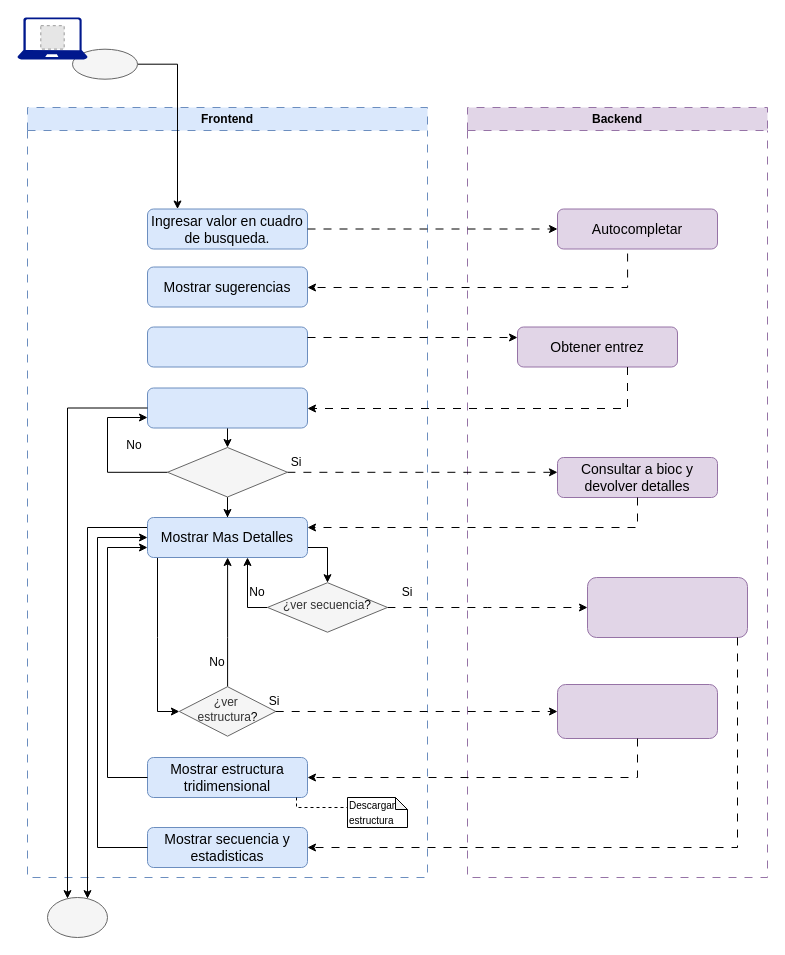
Image size: 785x955. Some labels were removed from this diagram. Grey dashed boxes stand in for pictures. Each missing label, with the centre of its shape:
"Consultar a bioc y devolver secuencia y estadísticas" goes at (x=667, y=607).
"FIN" goes at (x=77, y=917).
"INICIO" goes at (x=105, y=63).
"Ir a la vista detalle" goes at (x=227, y=407).
"Obtener estructura tridimensional de API publica" goes at (x=637, y=711).
"Seleccionar Alias" goes at (x=227, y=346).
"¿ampliar detalle ?" goes at (x=227, y=471).
